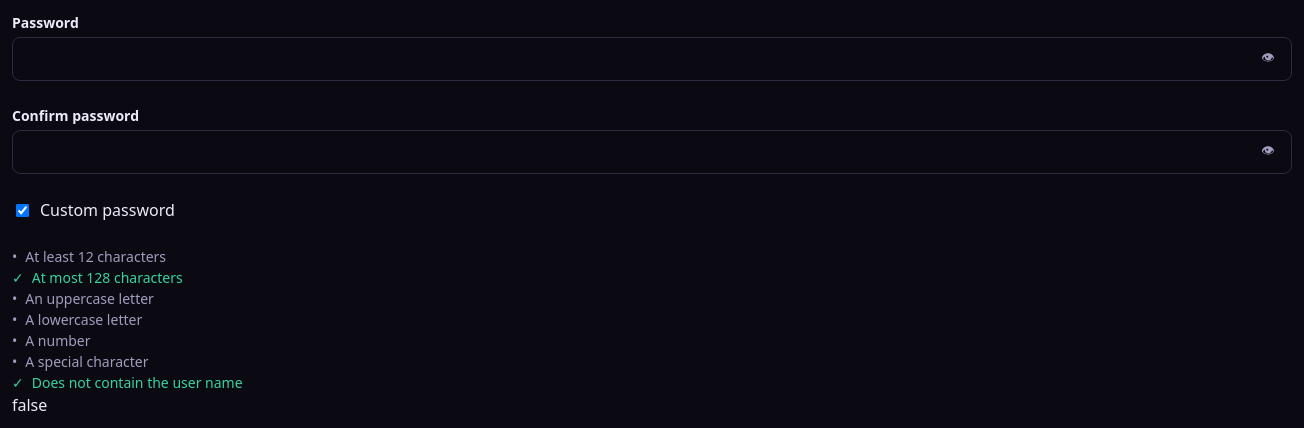
Scenario: PasswordField › switching from custom to generated generates immediately (PWD-032)
The image size is (1304, 428).
Click the checkbox labelled "Custom password" at [22, 210], box x1=16 y1=204 x2=29 y2=216
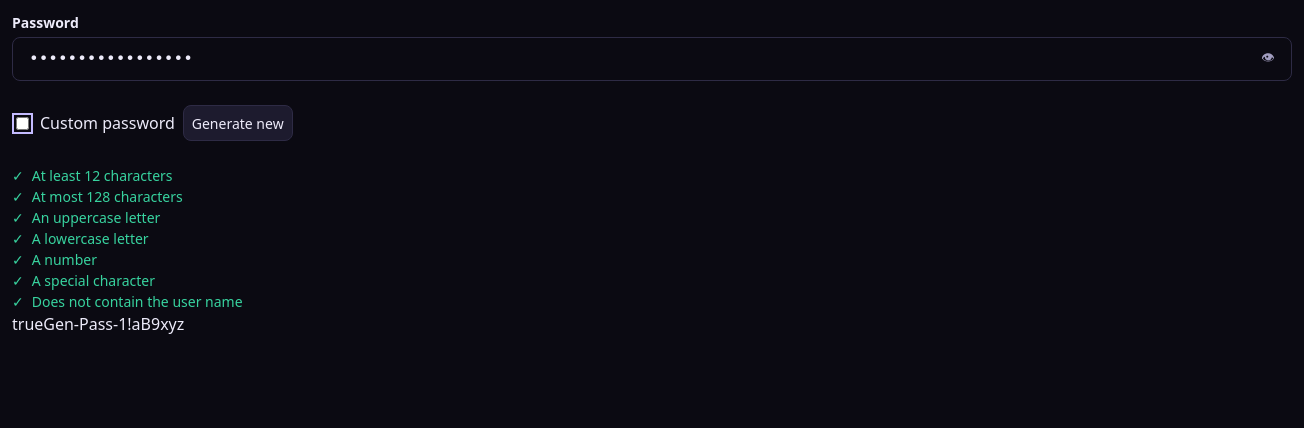
Expected: the text with test id "value" shows "Gen-Pass-1", x1=43 y1=313 x2=184 y2=335
